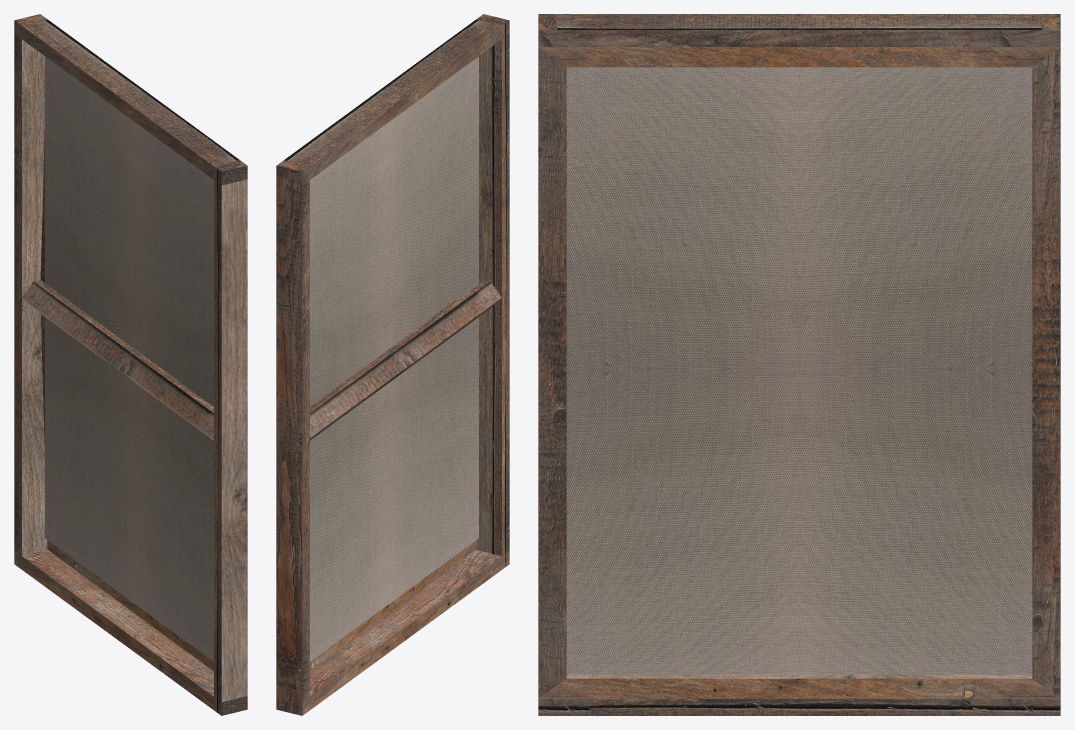
File: Canvas_Blank.glb
3 renders of one model, left to right at view 1: azimuth 30°, elevation 25°; view 2: azimuth 150°, elevation 25°; view 3: azimuth 270°, elevation 25°, orthographic. The views are drawn at different scales.
Parts seen in each view (by area): view 1: Plane; view 2: Plane; view 3: Plane.
Part boxes in pixels (box(x1,y1,x2,y2)): Plane: box(14, 14, 247, 715); Plane: box(276, 14, 509, 715); Plane: box(538, 14, 1060, 715).
Size of the model in its own units: 0.0997 by 2 by 1.38.
3 materials, 2 textured.
